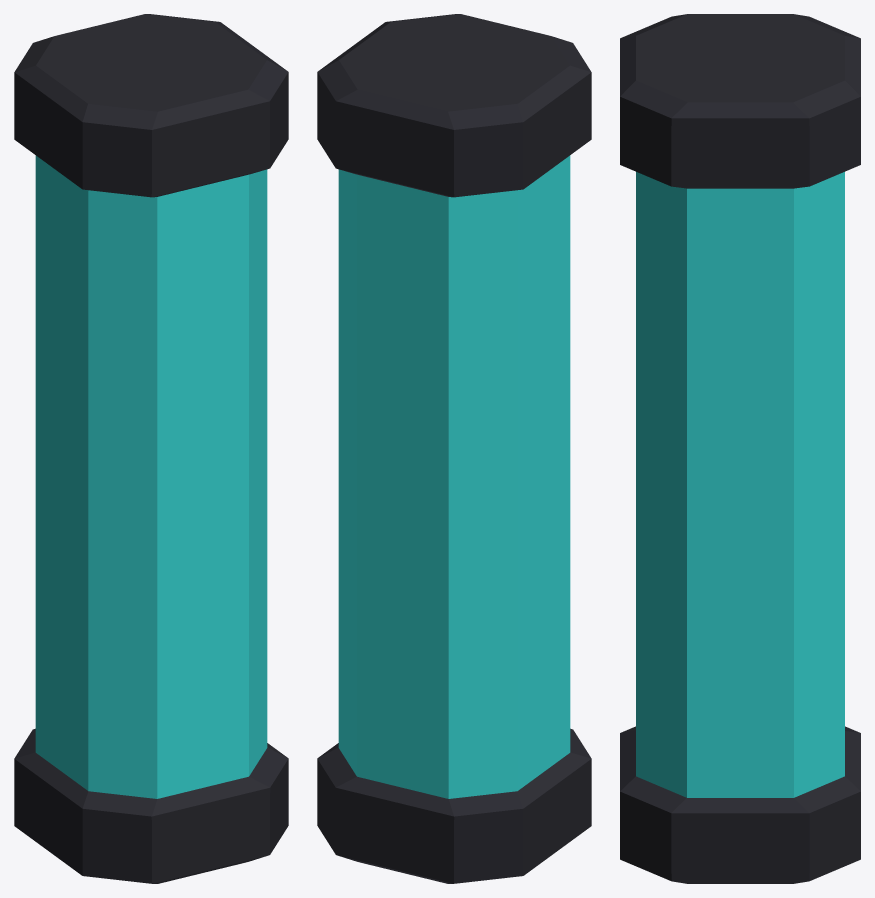
Rendered from Fusible.fbx.
The picture shows the model from 3 angles, left to right: view 1: azimuth 30°, elevation 25°; view 2: azimuth 150°, elevation 25°; view 3: azimuth 270°, elevation 25°; orthographic projection.
Visible parts, largest first — view 1: Cube; view 2: Cube; view 3: Cube.
Boxes of the visible parts, x1,y1,x2,y2 form: Cube: (14, 14, 288, 883); Cube: (317, 14, 591, 883); Cube: (620, 14, 860, 883).
Bounding box in the file's own units: 40.87 × 146 × 40.87.
